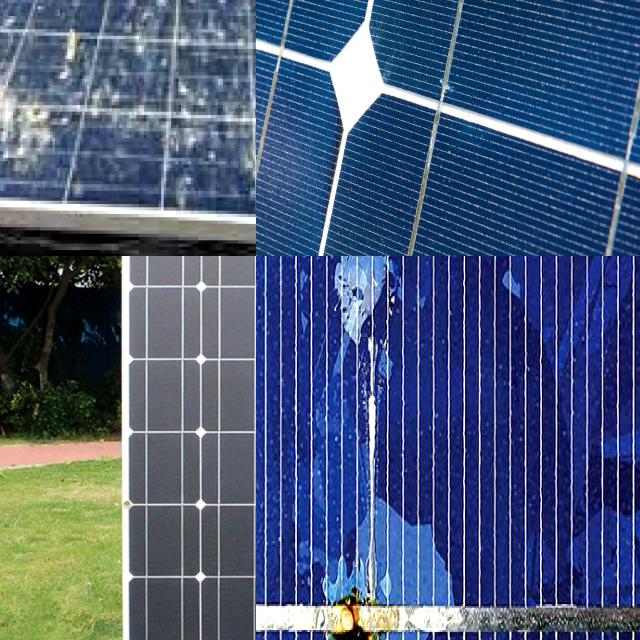bird: (0, 68, 58, 157), (167, 92, 217, 169), (44, 15, 94, 57), (129, 0, 186, 34)
crack: (256, 0, 640, 256), (131, 256, 256, 640)
shadow: (319, 491, 404, 640)
